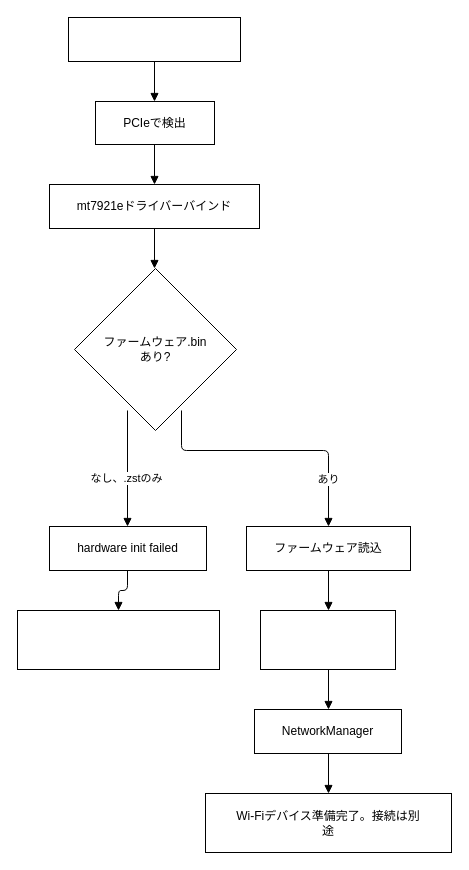
This 469x870 diagram has some shape labels left out. Each missing label, with the centre of its shape:
"MT7922ハードウェア" goes at point (154, 39).
"NetworkManager: 無線なし 'Adapter not found'" goes at point (118, 640).
"wlan0リネーム (例 wlP1p1s0)" goes at point (328, 640).
